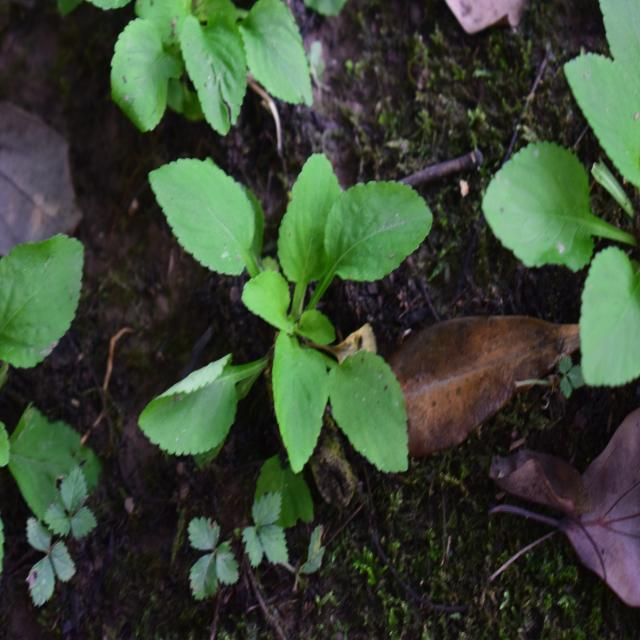Viola: (131, 172, 428, 519)
